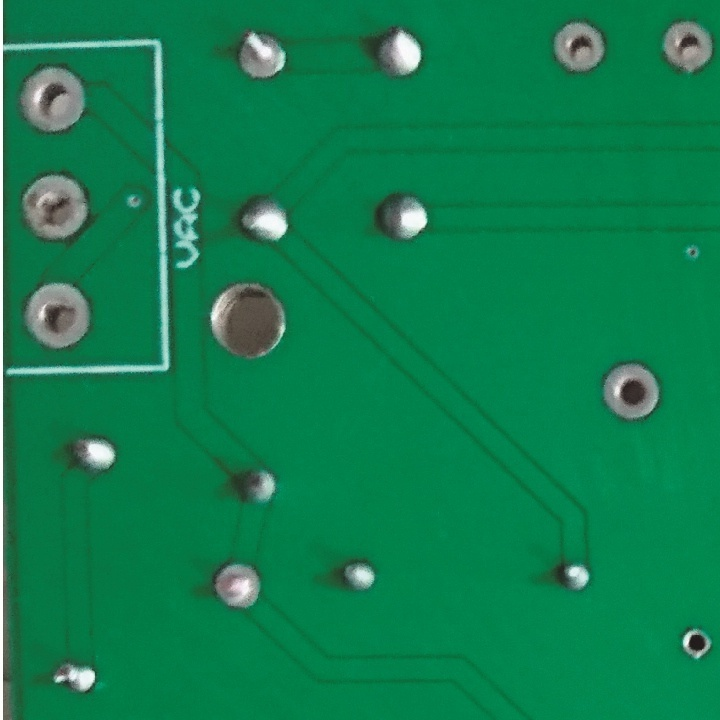F: (17, 64, 91, 135), (21, 283, 93, 355), (19, 172, 92, 242), (600, 361, 667, 422), (545, 17, 607, 78), (227, 24, 289, 84), (658, 18, 718, 77), (213, 560, 262, 612), (676, 624, 716, 660)
